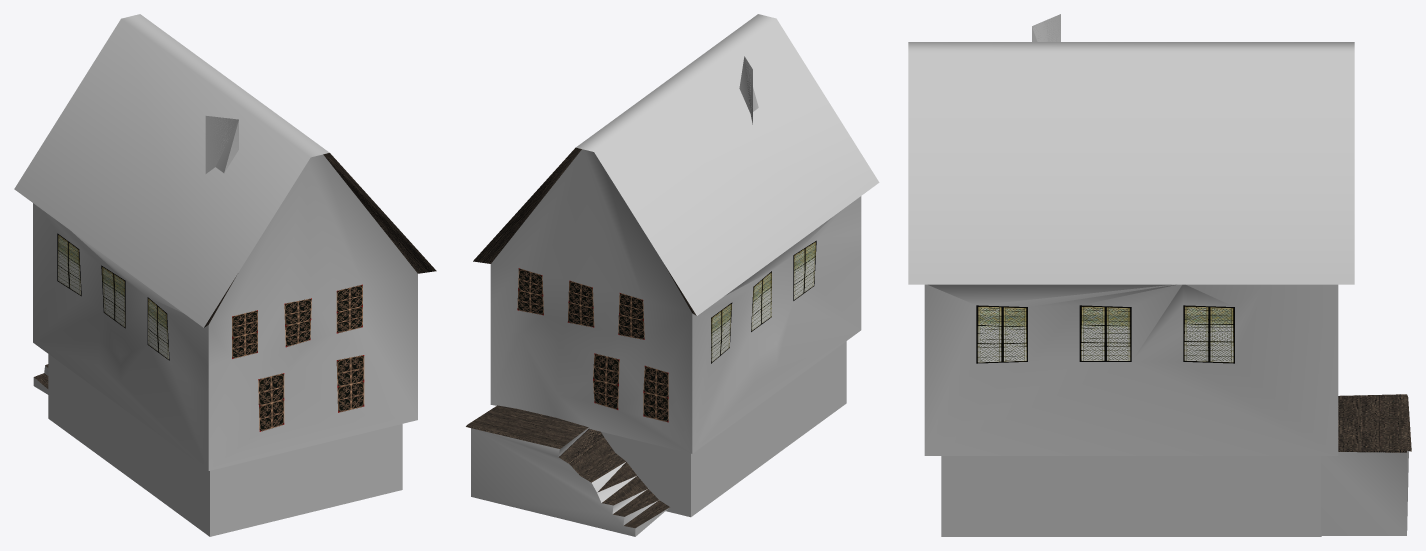
Rendered from house1_LOD2.fbx.
3 renders of one model, left to right at view 1: azimuth 30°, elevation 25°; view 2: azimuth 150°, elevation 25°; view 3: azimuth 270°, elevation 25°, orthographic. The views are drawn at different scales.
Parts seen in each view (by area): view 1: Mesh Object; view 2: Mesh Object; view 3: Mesh Object.
Part boxes in pixels (x1,y1,x2,y2): Mesh Object: (14,14,436,536); Mesh Object: (466,14,879,536); Mesh Object: (908,14,1411,536).
Size of the model in its own units: 9.68 by 14.79 by 15.38.
